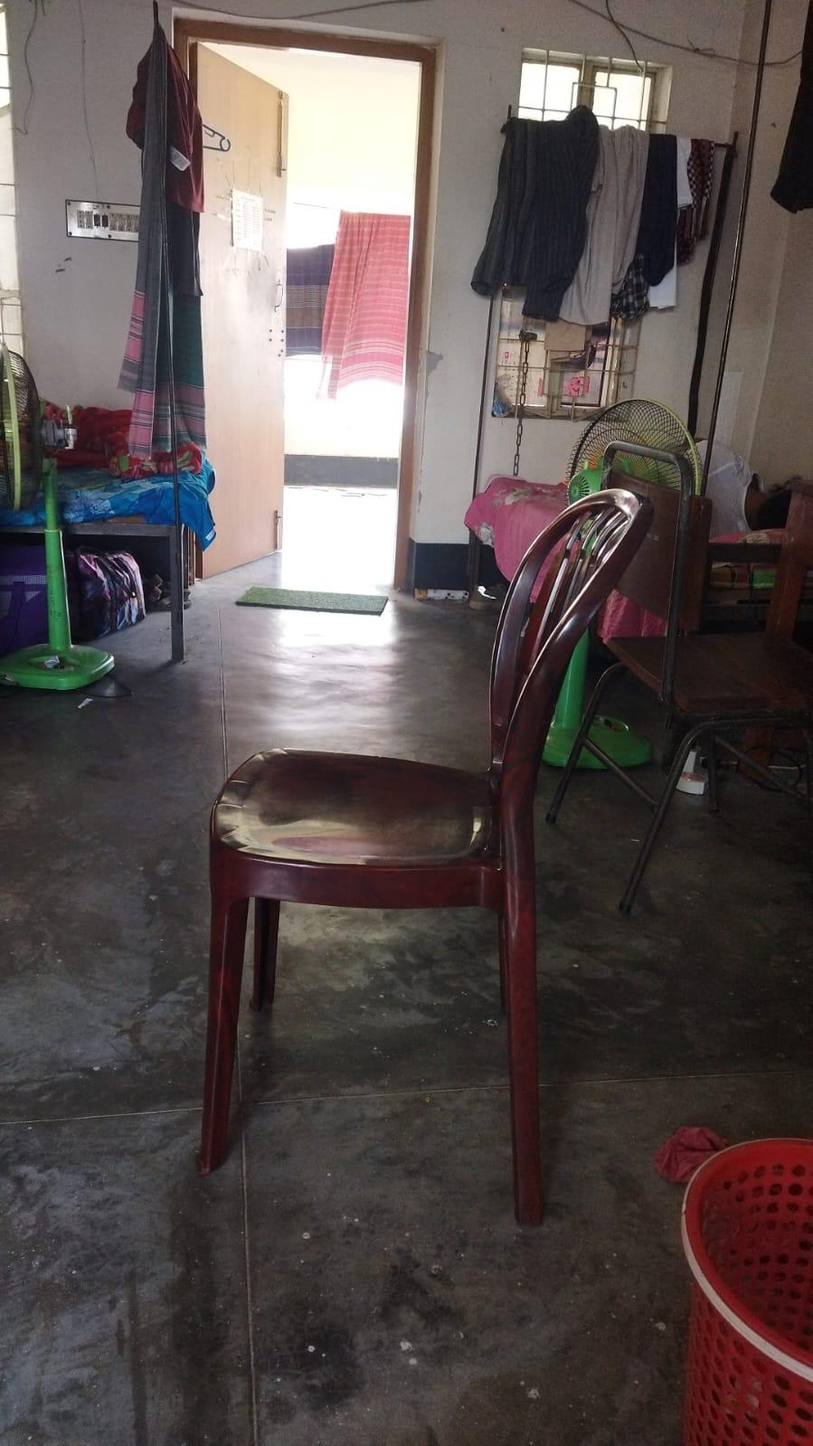Basket: (646, 1075, 813, 1442)
Chair: (201, 478, 642, 1163)
Door: (185, 69, 294, 565)
Fan: (552, 388, 665, 781), (0, 319, 76, 774)
Floor Mat: (216, 571, 407, 625)
